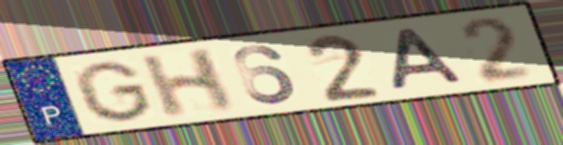2: (303, 30, 386, 104), (457, 15, 538, 86)
6: (232, 42, 301, 106)
A: (390, 25, 470, 93)
G: (70, 59, 158, 124)
H: (136, 45, 239, 121)
